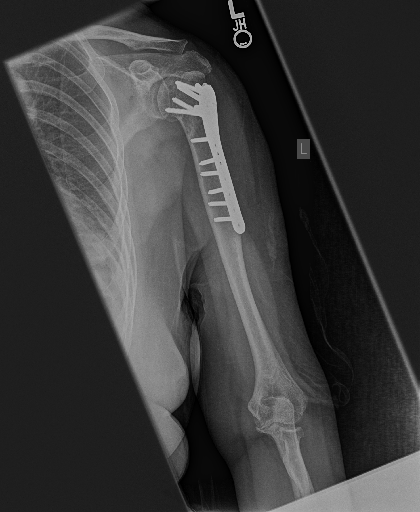implant: (168, 77, 245, 235)
